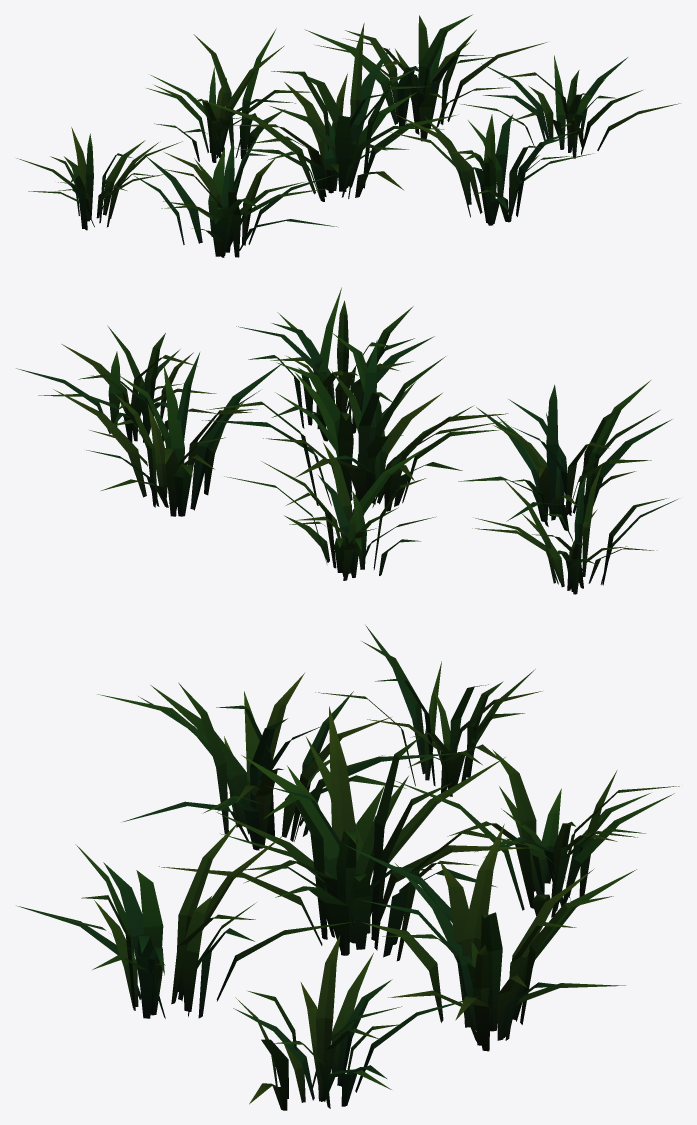
The model's file is SM_ForestGrass.fbx.
The picture shows the model from 3 angles, top to bottom: view 1: azimuth 30°, elevation 25°; view 2: azimuth 150°, elevation 25°; view 3: azimuth 270°, elevation 25°; orthographic projection. The views are drawn at different scales.
Parts seen in each view (by area): view 1: SM_ForestGrass; view 2: SM_ForestGrass; view 3: SM_ForestGrass.
Part boxes in pixels (box(x1,y1,x2,y2)): SM_ForestGrass: box(16, 14, 680, 257); SM_ForestGrass: box(16, 287, 677, 594); SM_ForestGrass: box(16, 625, 679, 1110).
Bounding box in the file's own units: 1.76 × 1.15 × 0.3273.
